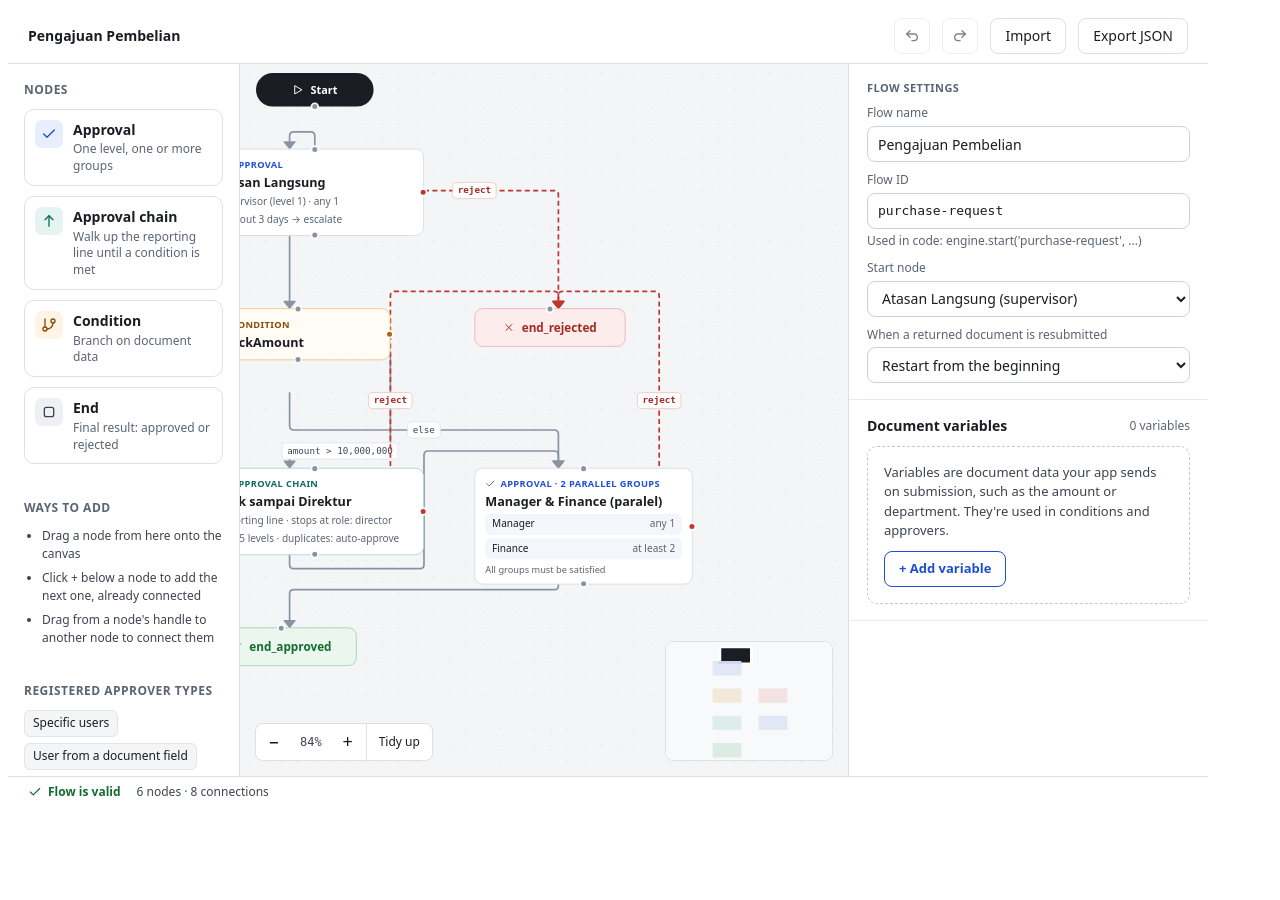
node head and actions › renames nodes, rejecting invalid or taken IDs
Step 1. Click the element with test id "node-review" → (584, 526), box [474, 468, 693, 585]
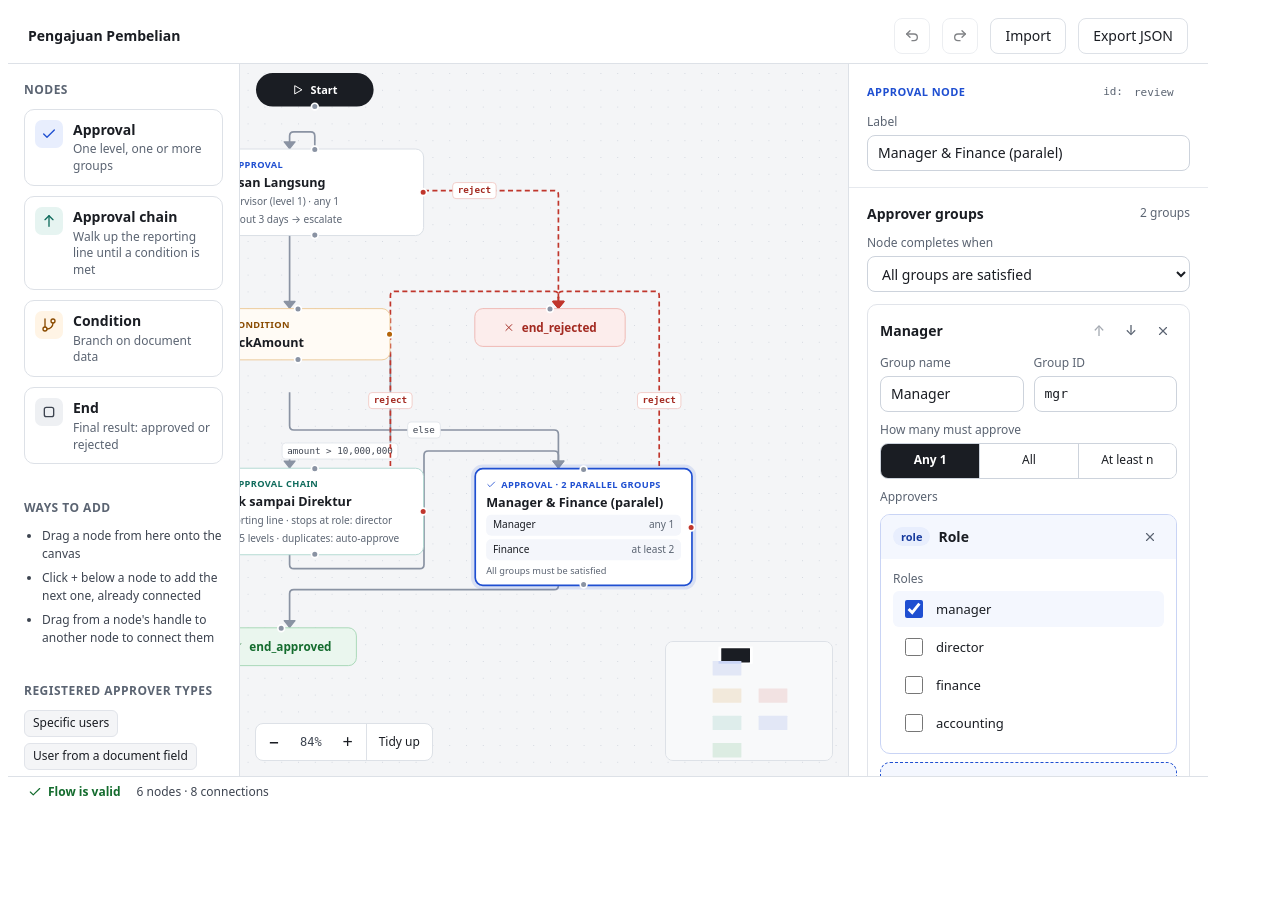
Result: the field named "Node ID" holds "review"
Step 2. Replace the text in the field named "Node ID" with "bad id" → (1158, 92), box [1127, 80, 1190, 104]
Then press Enter
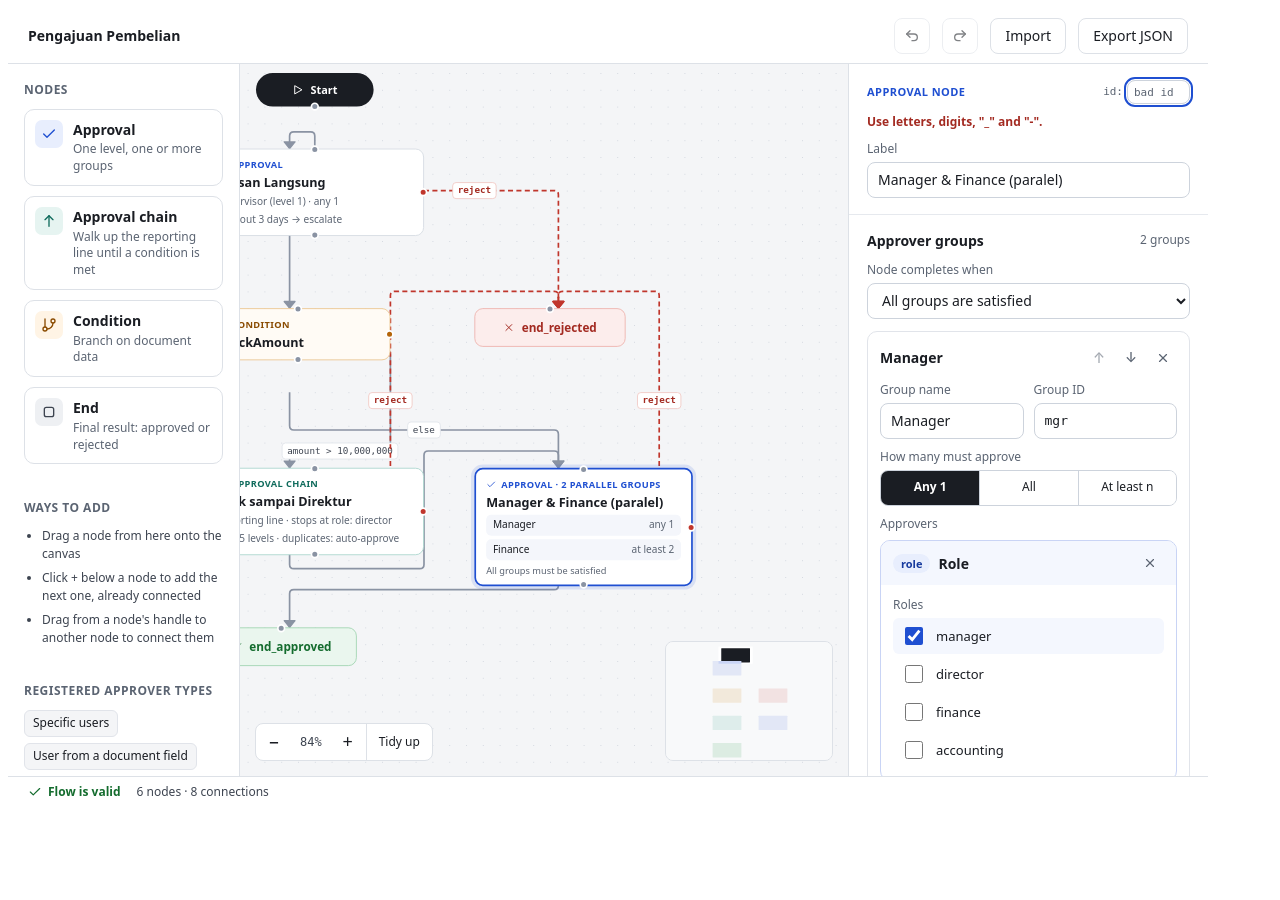
Result: the message shows "Use letters, digits" at [867, 113, 1042, 130]
Step 3. Replace the text in the field named "Node ID" with "chain" → (1158, 92), box [1127, 80, 1190, 104]
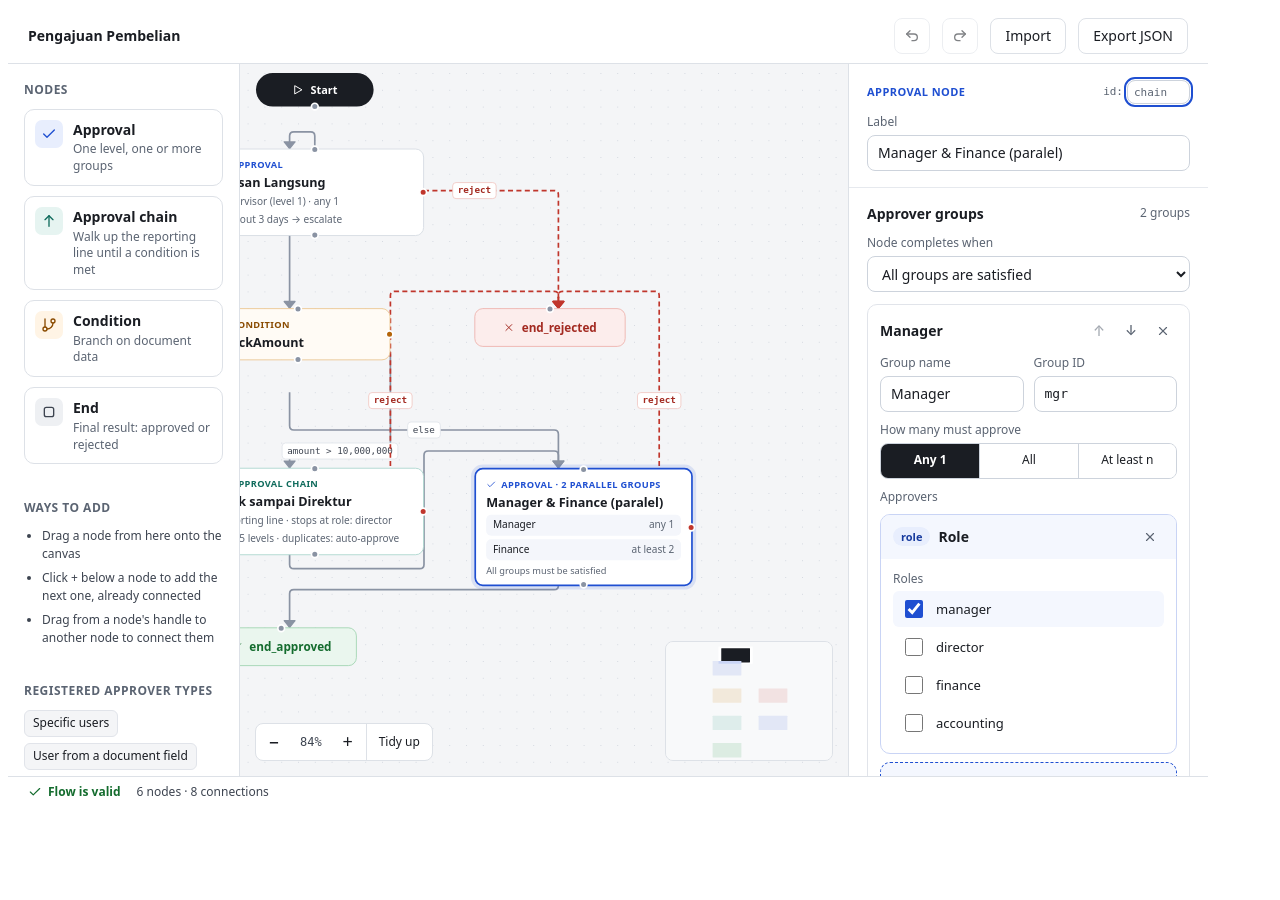
Expected: the message "Use letters, digits, \"_\" and \"-\"." is not shown
Step 4. Leave the field named "Node ID", box [1127, 80, 1190, 104]
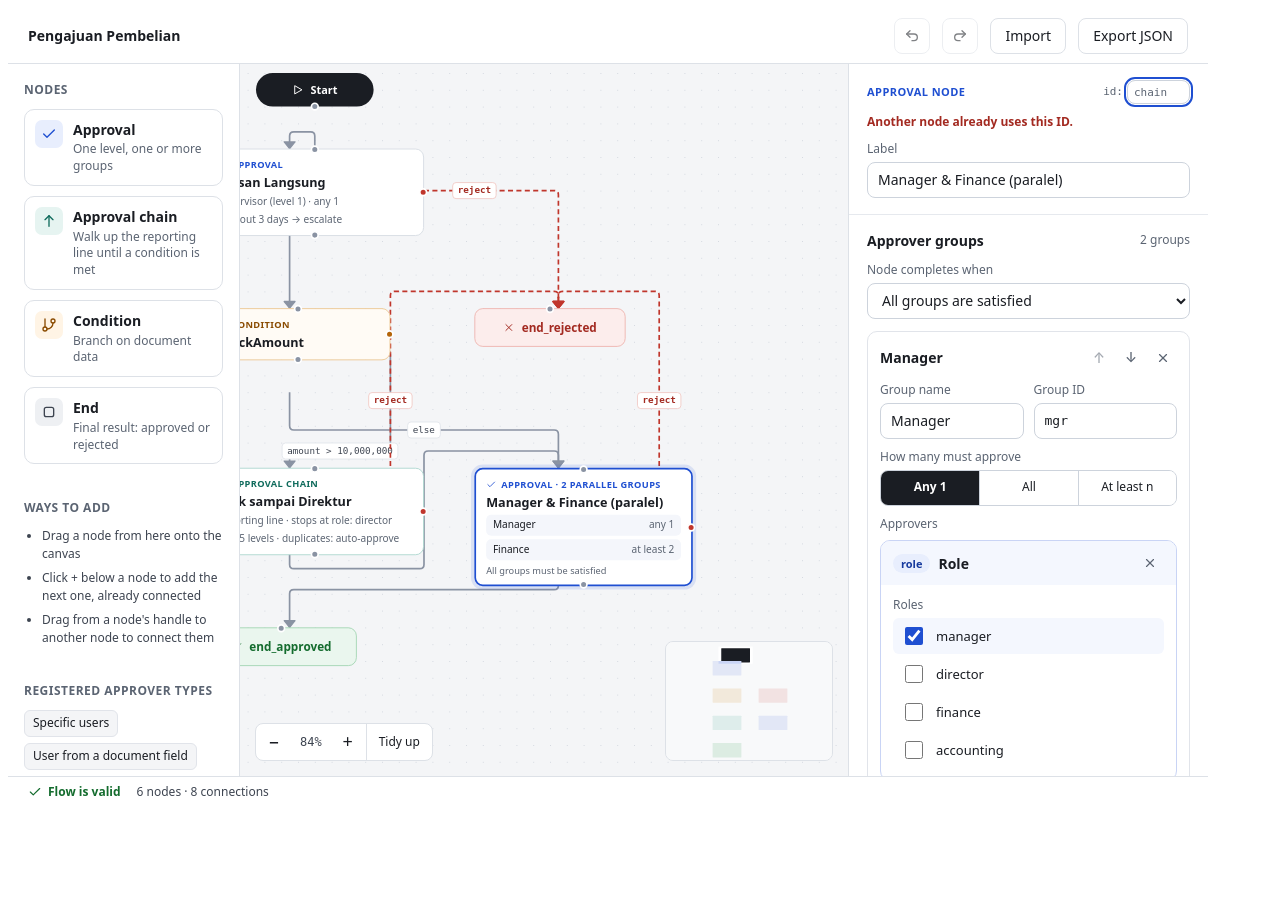
Result: the message reads "Another node already uses this ID." at [867, 113, 1073, 130]
Step 5. Replace the text in the field named "Node ID" with "final" → (1158, 92), box [1127, 80, 1190, 104]
Then press Enter
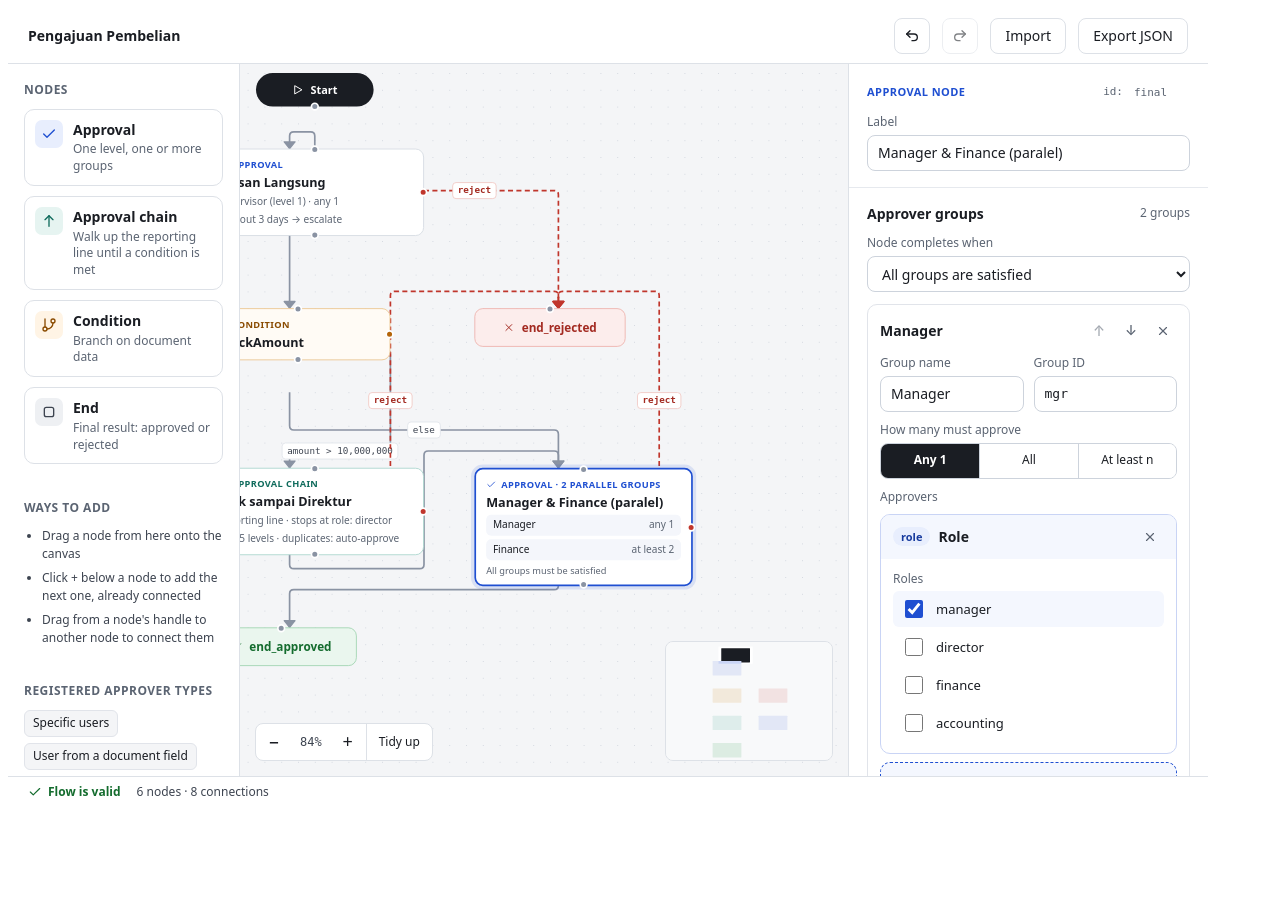
Result: the field named "Node ID" holds "final" at [1127, 80, 1190, 104]
